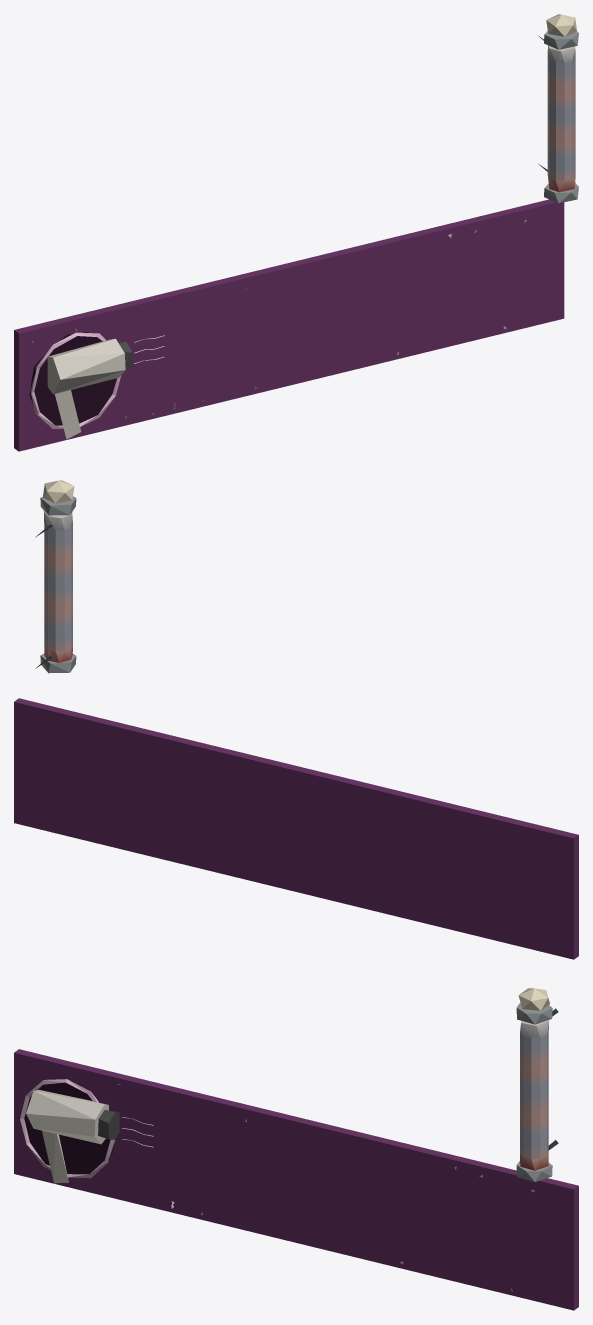
Rendered from bang_salon_toc_my_linh_60.glb.
3 renders of one model, top to bottom at view 1: azimuth 30°, elevation 25°; view 2: azimuth 150°, elevation 25°; view 3: azimuth 330°, elevation 25°, orthographic. The views are drawn at different scales.
Parts seen in each view (by area): view 1: bang_salon_toc_my_linh_60; view 2: bang_salon_toc_my_linh_60; view 3: bang_salon_toc_my_linh_60.
Part boxes in pixels (x1,y1,x2,y2): bang_salon_toc_my_linh_60: [14, 14, 578, 451]; bang_salon_toc_my_linh_60: [14, 480, 578, 959]; bang_salon_toc_my_linh_60: [14, 988, 578, 1310].
Bounding box in the file's own units: 5.8 × 3.27 × 0.5854.
